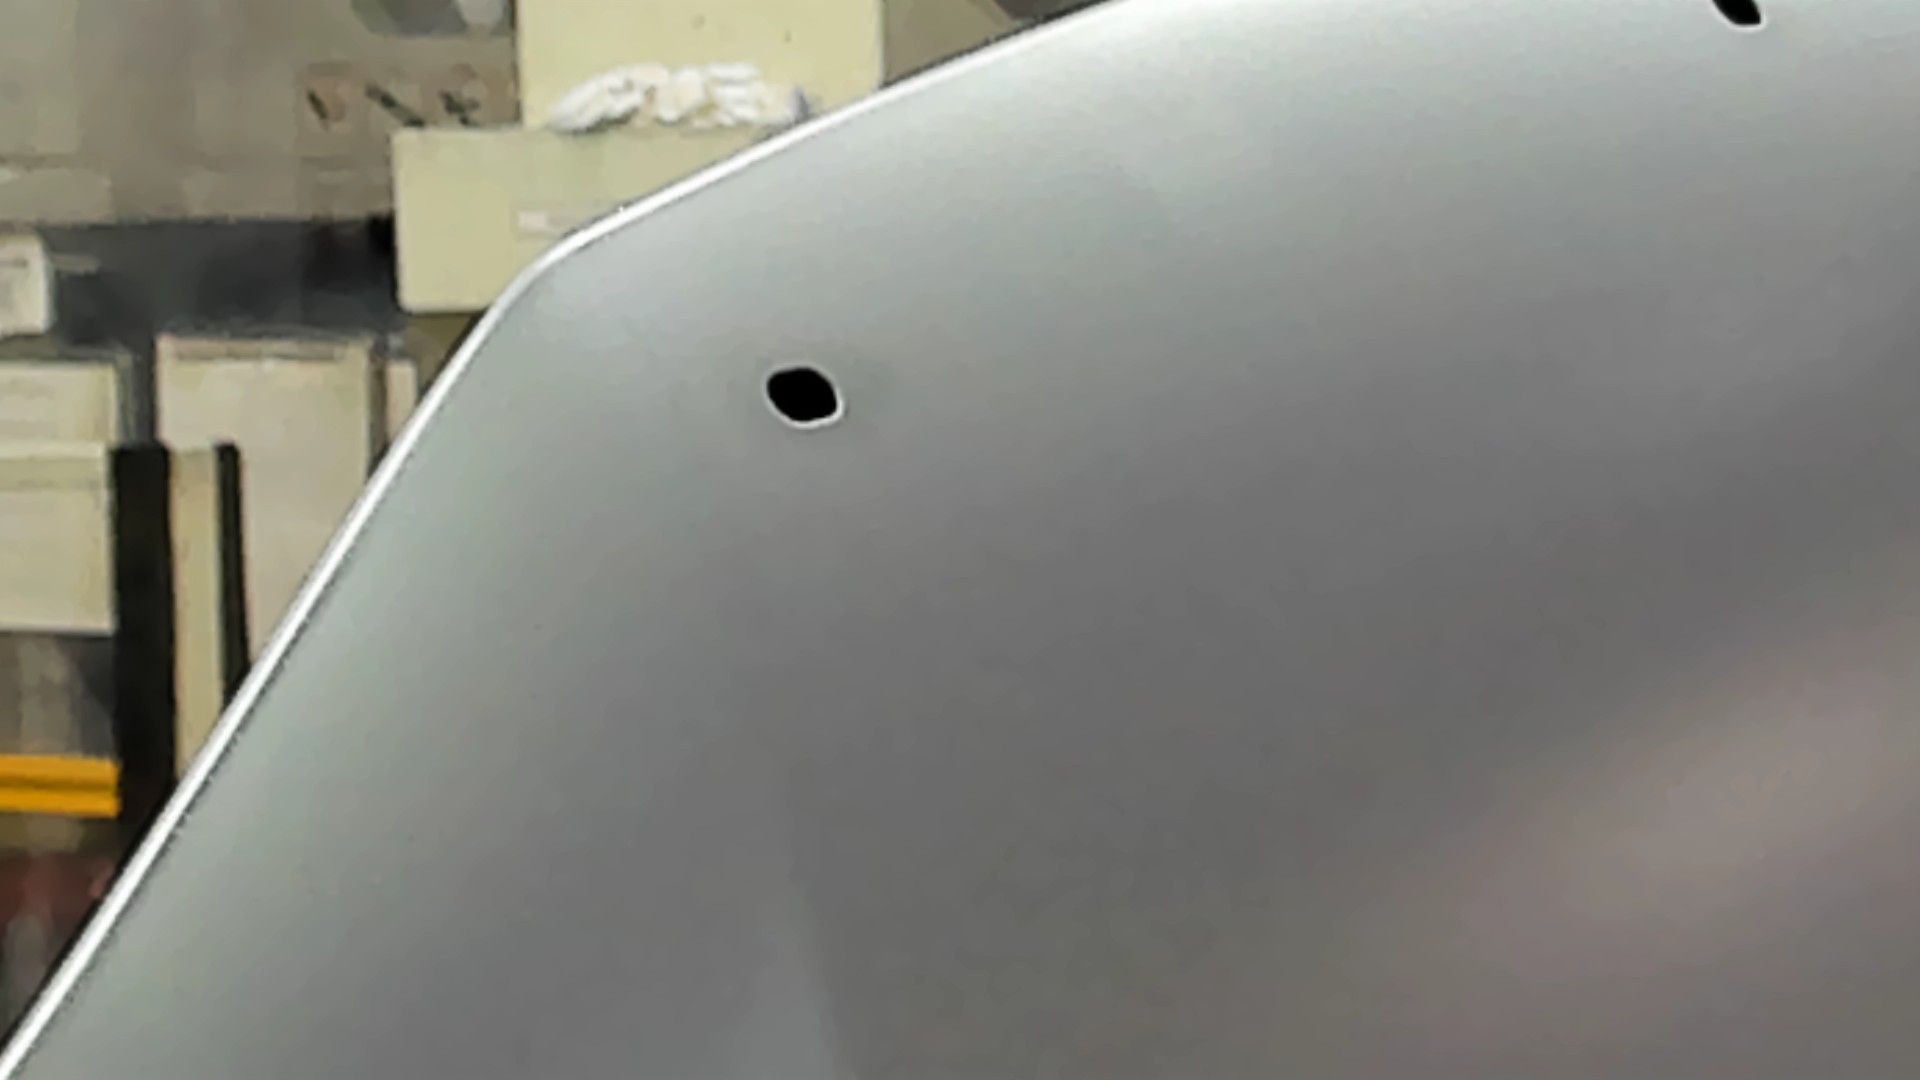amorfo: (756, 359, 856, 436), (1704, 1, 1778, 41)
capo: (961, 109, 1920, 1080)
